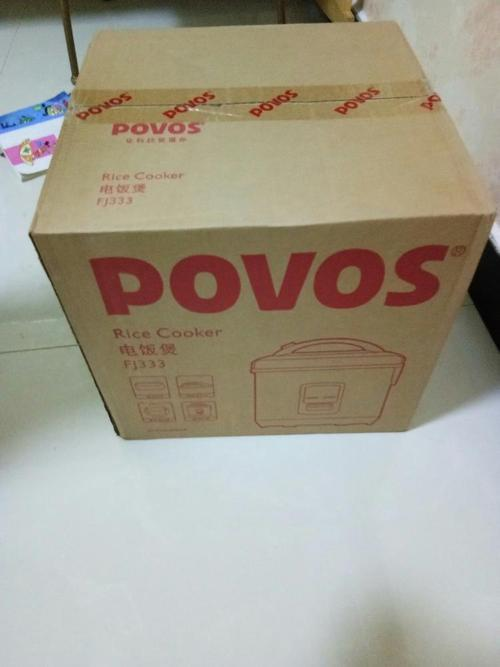cardboard: (31, 23, 494, 438)
